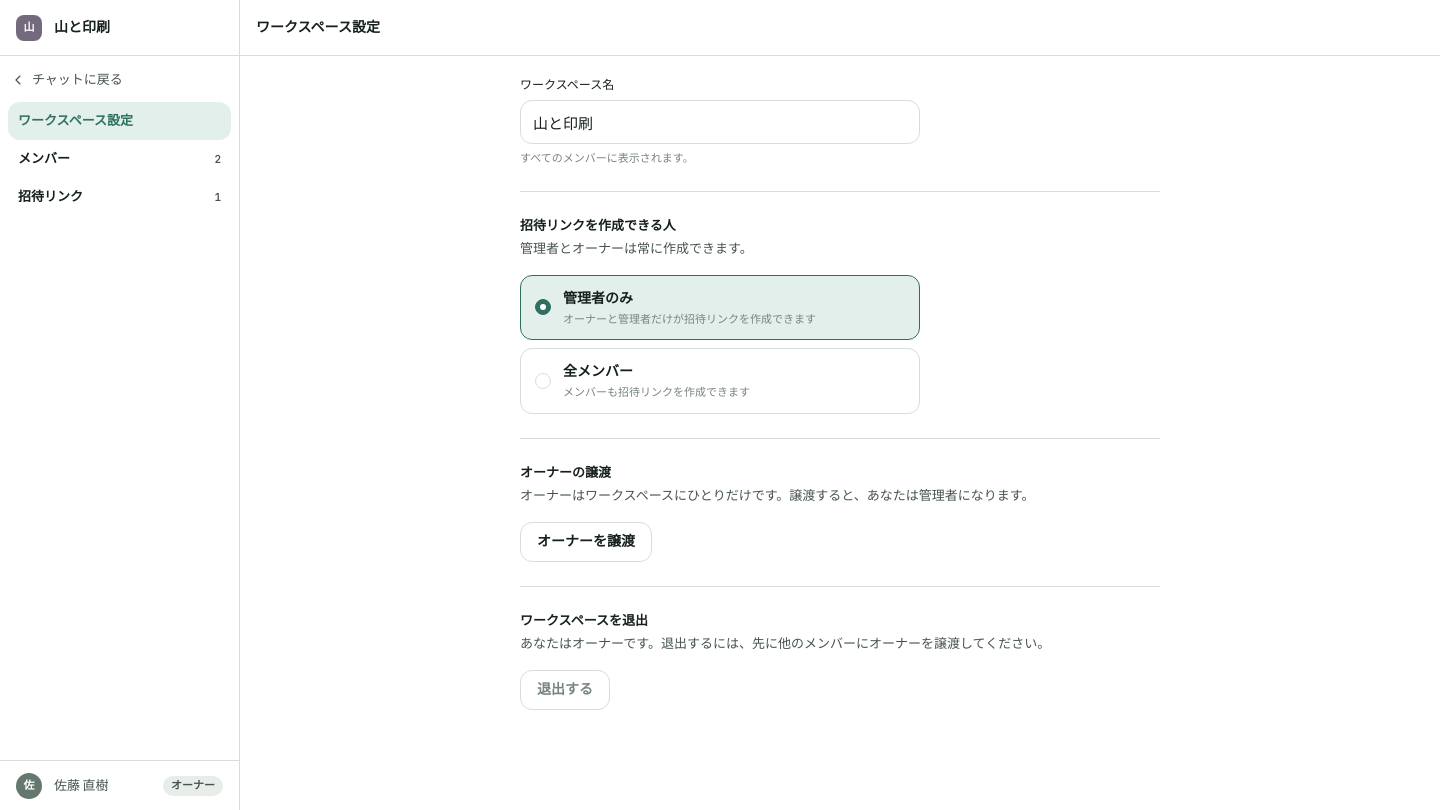
Scenario: the workspace admin screens › settings › makes the owner transfer before leaving, and leaves after the transfer
Click the button "退出する". click: x=565, y=690
box: top-left (520, 670), bottom-right (610, 710)
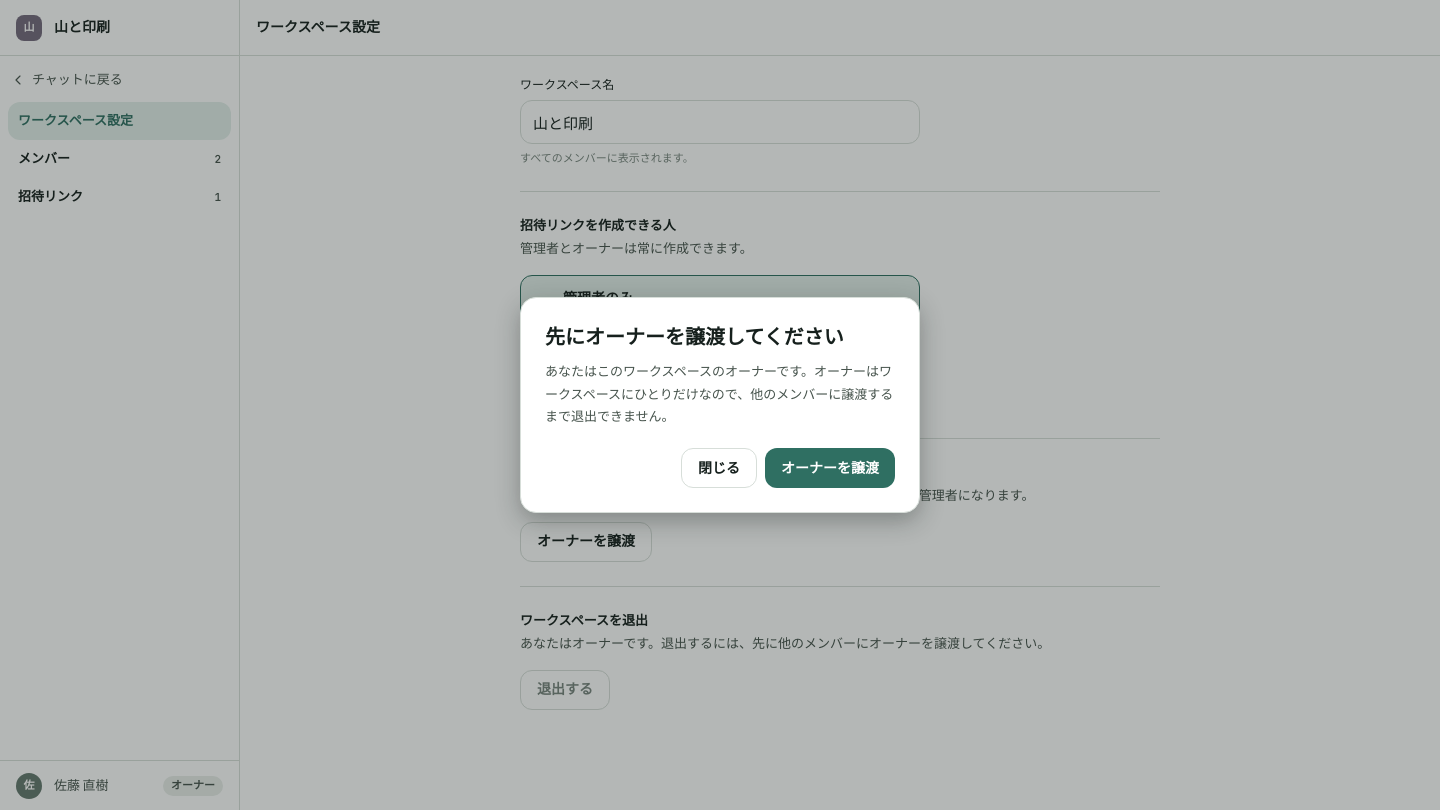
Check: the dialog shows "先にオーナーを譲渡してください", box top-left (545, 325), bottom-right (844, 349)
Click the button "オーナーを譲渡". click: x=830, y=468
box: top-left (765, 448), bottom-right (895, 488)
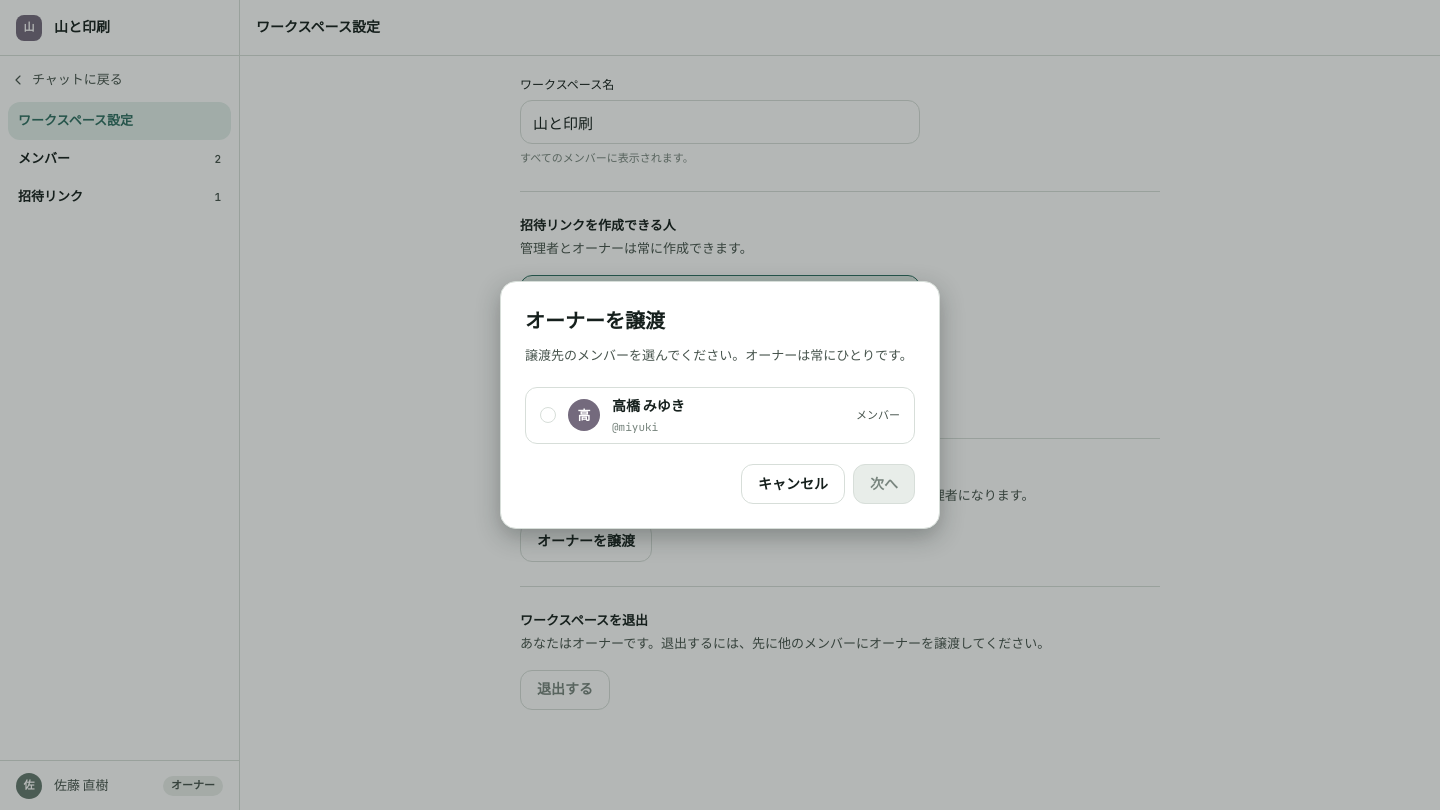
Click the radio button labelled "高 高橋 みゆき @miyuki メンバー". click: x=584, y=415
box: top-left (525, 387), bottom-right (915, 444)
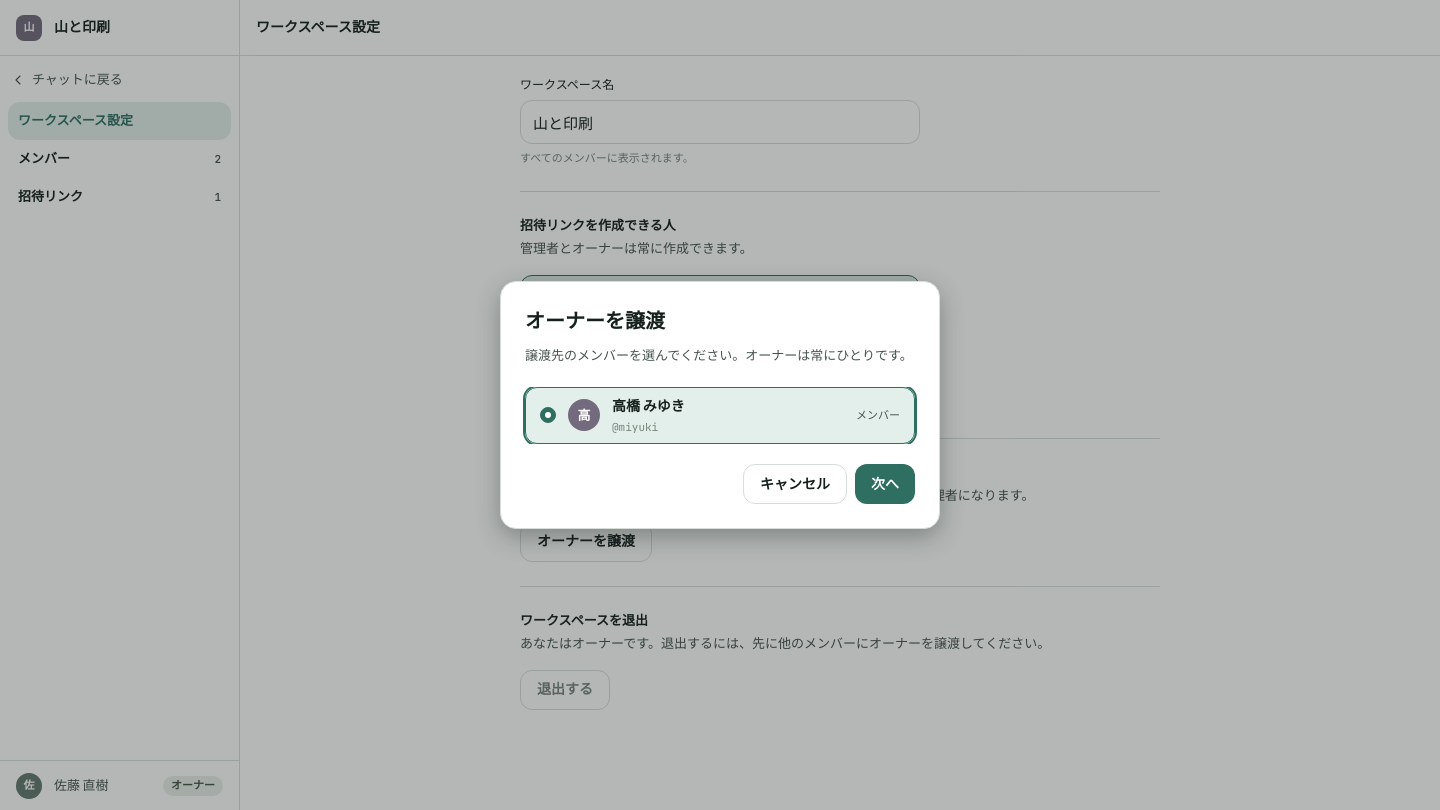
Click the button "次へ". click: x=885, y=484
box: top-left (855, 464), bottom-right (915, 504)
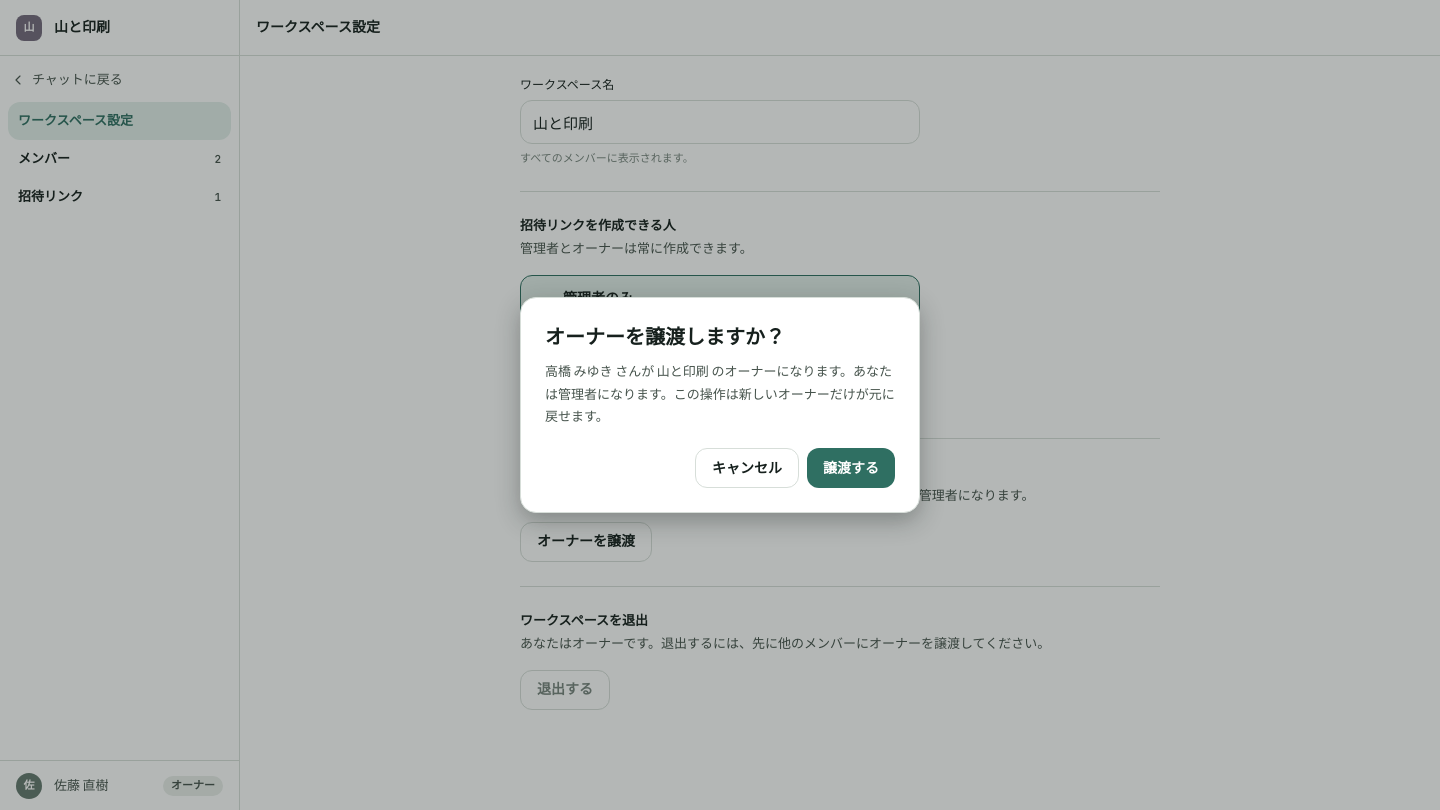
Check: the dialog shows "高橋 みゆき さんが 山と印刷 のオーナーになります", box top-left (545, 363), bottom-right (895, 424)
Click the button "譲渡する". click: x=851, y=468
box: top-left (807, 448), bottom-right (895, 488)
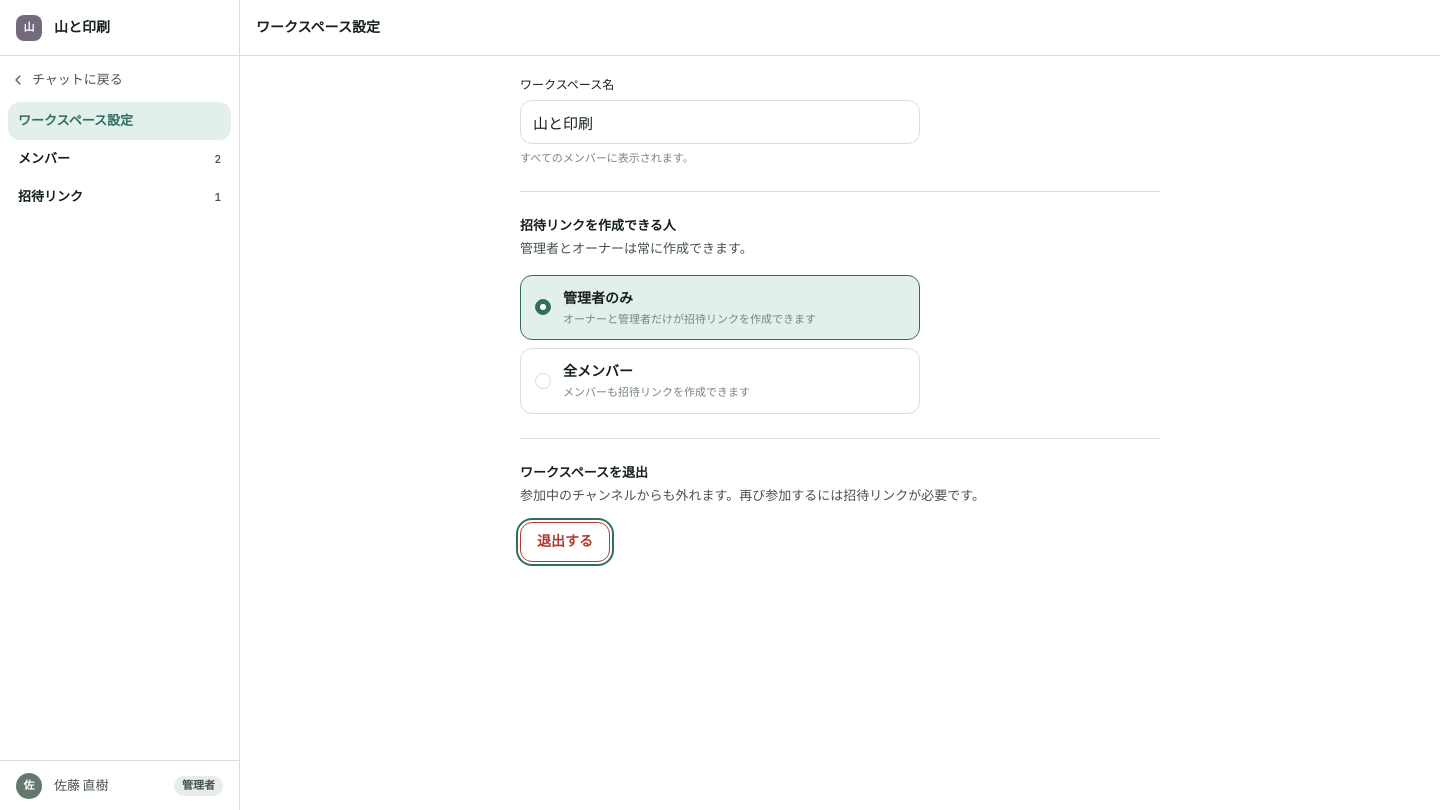
Check: the dialog is gone
Note: 譲渡した自分は管理者になり、譲渡の項目が消えて、退出できるようになる
Click the button "退出する". click: x=565, y=542
box: top-left (520, 522), bottom-right (610, 562)
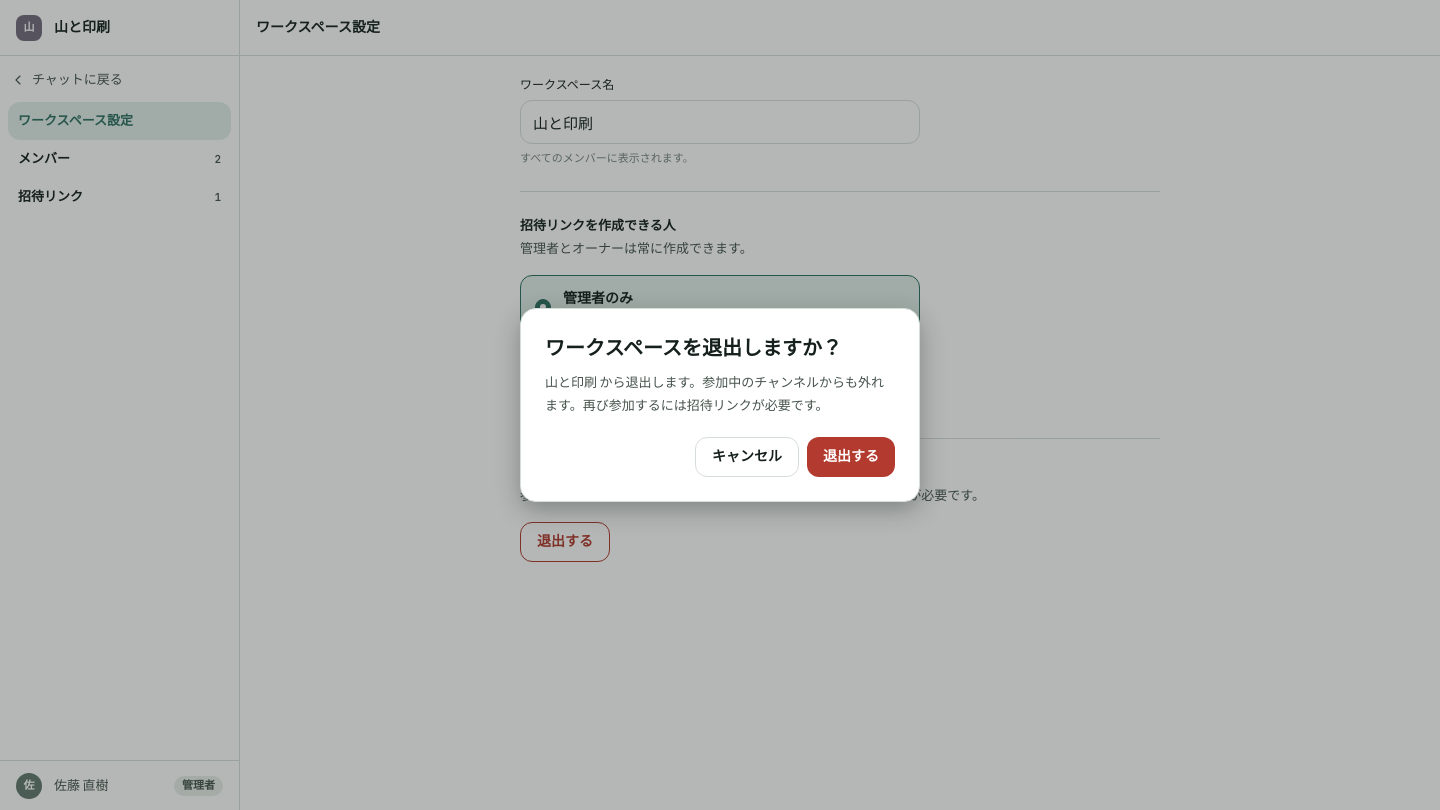
Check: the dialog shows "山と印刷 から退出します", box top-left (545, 374), bottom-right (884, 413)
